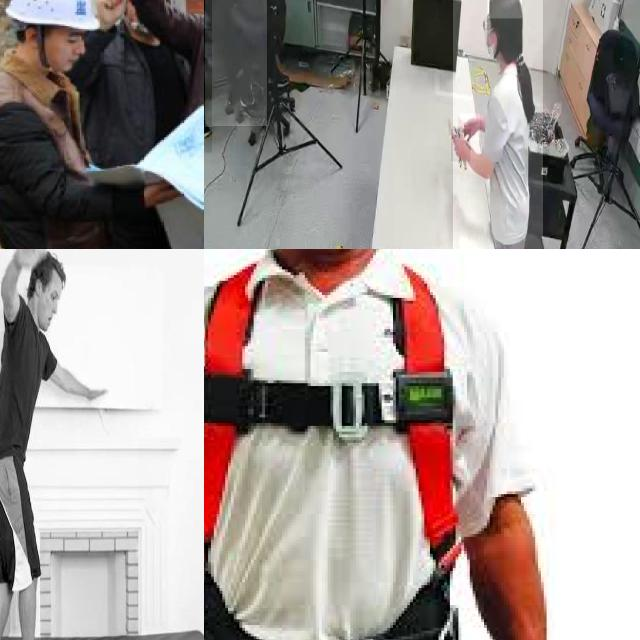Harness: (204, 262, 474, 640)
No_Ear-Protection: (26, 274, 44, 297), (25, 28, 37, 49)
No_Glasses: (58, 29, 86, 46)
face_nomask: (49, 43, 86, 72), (42, 303, 63, 331)
hand_noglove: (451, 128, 471, 162), (460, 114, 480, 141)
head_helmet: (7, 0, 94, 31)
head_nohelmet: (487, 0, 522, 19)
person: (0, 249, 108, 640), (452, 0, 543, 249), (204, 0, 267, 127)
shoes: (204, 107, 214, 142)
